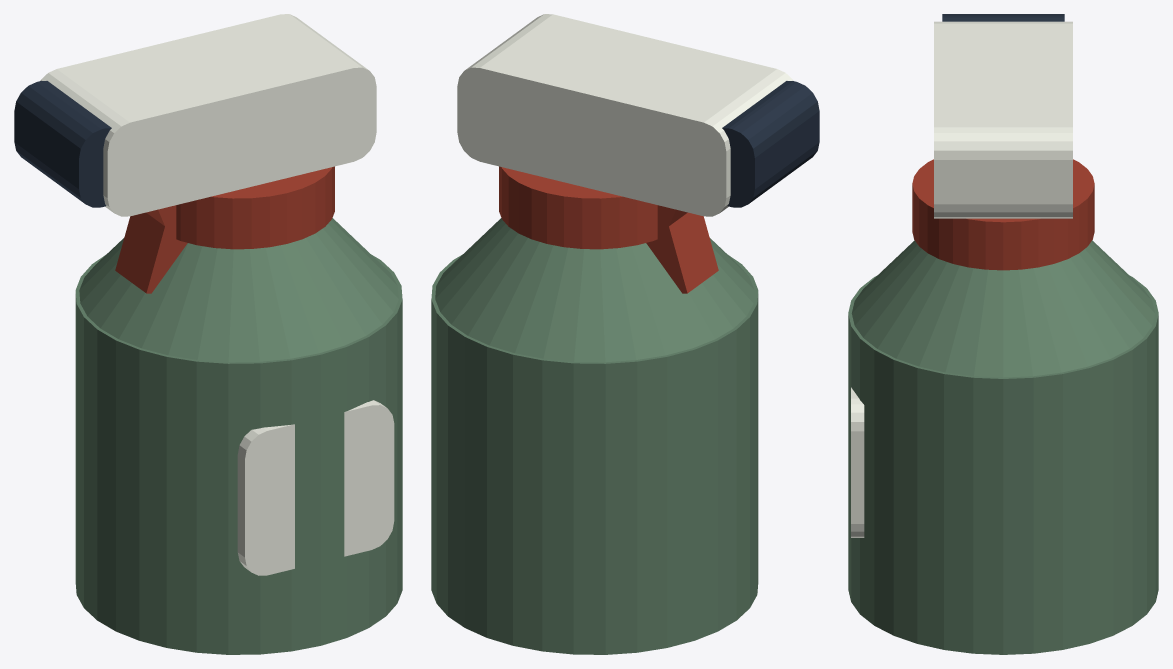
Rendered from lensbottle.glb.
3 renders of one model, left to right at view 1: azimuth 30°, elevation 25°; view 2: azimuth 150°, elevation 25°; view 3: azimuth 270°, elevation 25°, orthographic. The views are drawn at different scales.
Parts seen in each view (by area): view 1: bottle, sprayer, shoulder, label, collar, nozzle, trigger; view 2: bottle, sprayer, shoulder, collar, nozzle, trigger; view 3: bottle, shoulder, sprayer, collar, label, nozzle.
Boxes of the visible parts, left/top/right/bottom form: bottle: left=75, top=255, right=402, bottom=654; sprayer: left=40, top=14, right=376, bottom=216; shoulder: left=79, top=218, right=398, bottom=362; label: left=237, top=400, right=394, bottom=575; collar: left=176, top=166, right=334, bottom=249; nozzle: left=14, top=81, right=111, bottom=207; trigger: left=115, top=205, right=187, bottom=293; bottle: left=431, top=255, right=758, bottom=654; sprayer: left=457, top=14, right=793, bottom=216; shoulder: left=435, top=218, right=754, bottom=362; collar: left=499, top=166, right=657, bottom=249; nozzle: left=722, top=81, right=819, bottom=207; trigger: left=646, top=205, right=718, bottom=293; bottle: left=848, top=276, right=1158, bottom=654; shoulder: left=851, top=240, right=1155, bottom=377; sprayer: left=934, top=21, right=1072, bottom=218; collar: left=912, top=159, right=1094, bottom=270; label: left=851, top=387, right=864, bottom=537; nozzle: left=942, top=14, right=1064, bottom=21.
Bounding box in the file's own units: 0.895 × 1.34 × 0.76.
